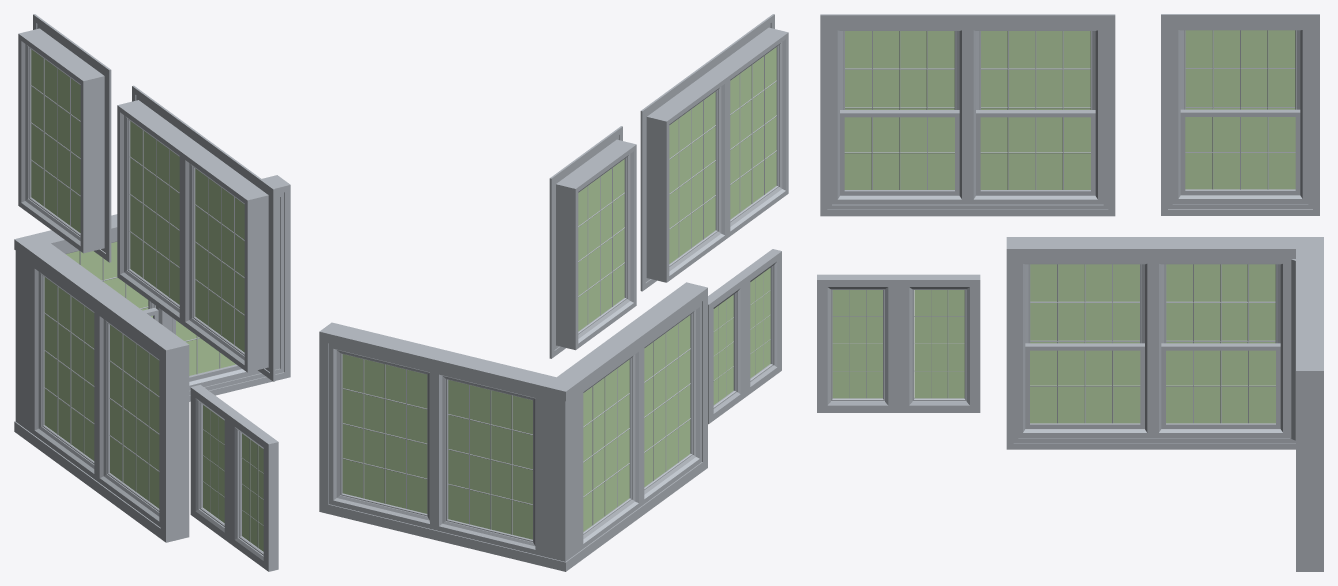
File: Window_01.FBX
3 views of the same model, side by side, from view 1: azimuth 30°, elevation 25°; view 2: azimuth 150°, elevation 25°; view 3: azimuth 270°, elevation 25° (orthographic). The views are drawn at different scales.
Parts seen in each view (by area): view 1: Window_Element_72, Window_Element_145_Detached43, Window_Element_132, Window_Element_02; view 2: Window_Element_72, Window_Element_145_Detached43, Window_Element_132, Window_Element_02; view 3: Window_Element_72, Window_Element_145_Detached43, Window_Element_132, Window_Element_02.
Boxes of the visible parts, left/top/right/bottom form: Window_Element_72: left=14, top=175, right=290, bottom=542; Window_Element_145_Detached43: left=117, top=85, right=275, bottom=381; Window_Element_132: left=18, top=14, right=111, bottom=262; Window_Element_02: left=190, top=384, right=278, bottom=571; Window_Element_72: left=319, top=282, right=707, bottom=571; Window_Element_145_Detached43: left=640, top=14, right=788, bottom=291; Window_Element_132: left=549, top=126, right=636, bottom=358; Window_Element_02: left=708, top=249, right=781, bottom=424; Window_Element_72: left=1006, top=237, right=1323, bottom=571; Window_Element_145_Detached43: left=820, top=14, right=1115, bottom=216; Window_Element_132: left=1161, top=14, right=1319, bottom=215; Window_Element_02: left=817, top=274, right=980, bottom=412.
Bounding box in the file's own units: 2753 × 4092 × 4345.
